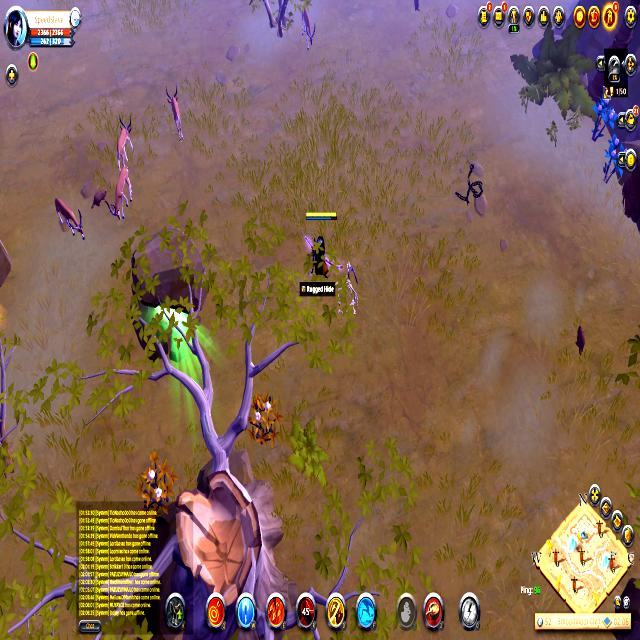hide: (136, 446, 177, 522), (246, 385, 280, 450), (590, 89, 620, 144), (600, 134, 626, 192)
ore: (51, 192, 90, 246), (162, 74, 188, 149), (109, 161, 133, 223), (114, 110, 136, 173), (297, 0, 318, 55)
red: (302, 206, 338, 294)
